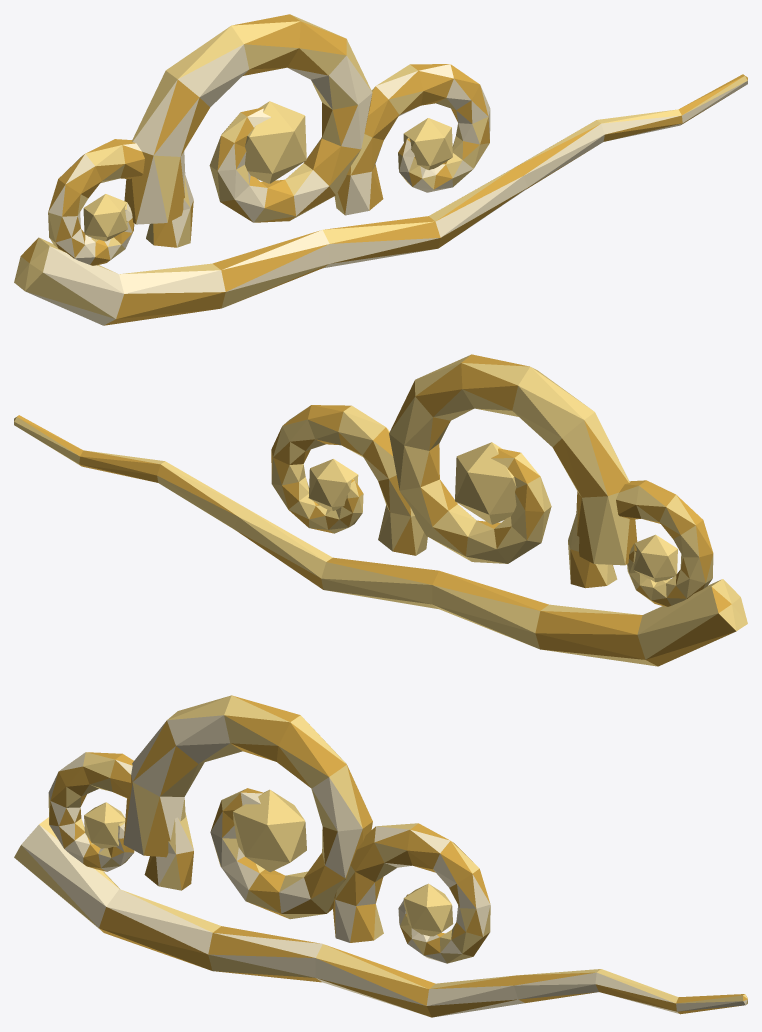
File: KirinAura_Cloud.fbx
3 views of the same model, one above another, from view 1: azimuth 30°, elevation 25°; view 2: azimuth 150°, elevation 25°; view 3: azimuth 330°, elevation 25° (orthographic).
Parts seen in each view (by area): view 1: KirinAura_Cloud_Body; view 2: KirinAura_Cloud_Body; view 3: KirinAura_Cloud_Body.
Part boxes in pixels (x1,y1,x2,y2): KirinAura_Cloud_Body: [14, 14, 747, 325]; KirinAura_Cloud_Body: [14, 354, 747, 666]; KirinAura_Cloud_Body: [14, 695, 747, 1017].
Bounding box in the file's own units: 2.76 × 0.9982 × 0.1786.
Materials: 1 (1 with a texture image).
